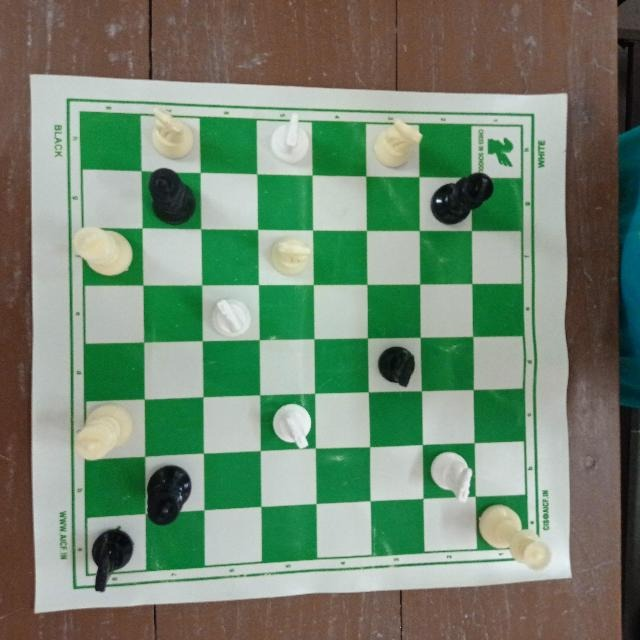black-king: (426, 170, 497, 229), (144, 461, 193, 533), (144, 164, 197, 228)
black-knight: (87, 523, 135, 598), (379, 344, 419, 392)
white-king: (70, 401, 140, 467), (62, 226, 140, 278)
white-knight: (144, 103, 198, 160), (371, 117, 424, 171), (429, 448, 477, 506), (204, 291, 256, 343), (264, 400, 316, 452), (264, 111, 311, 165), (266, 233, 317, 278)
white-queen: (476, 500, 554, 575)
